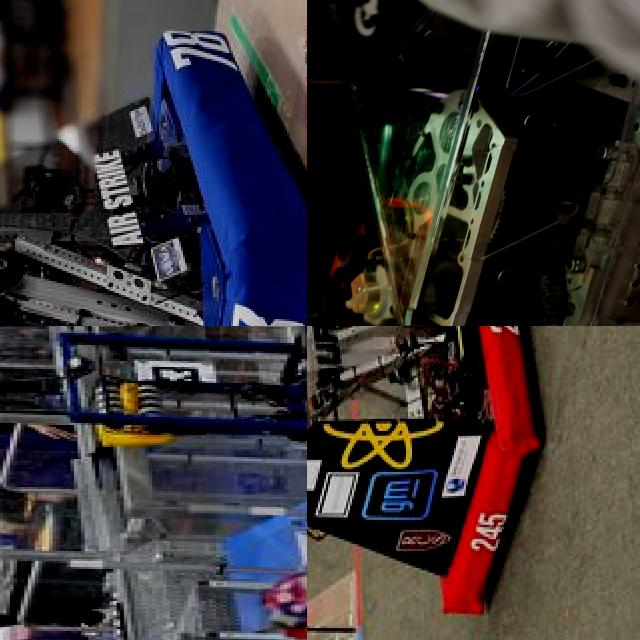FRC-Robots: (307, 0, 640, 326), (0, 59, 307, 326), (307, 326, 544, 640), (38, 326, 307, 481)
